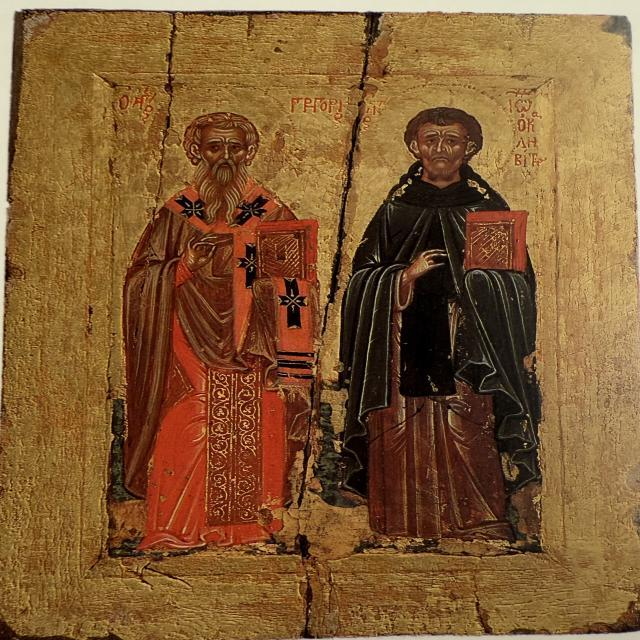aura: (151, 84, 297, 189), (375, 83, 520, 185)
book: (248, 221, 327, 289), (467, 208, 531, 278)
christ_hand: (162, 226, 227, 280), (396, 247, 458, 292)
saint: (109, 82, 336, 567), (349, 82, 567, 561)
